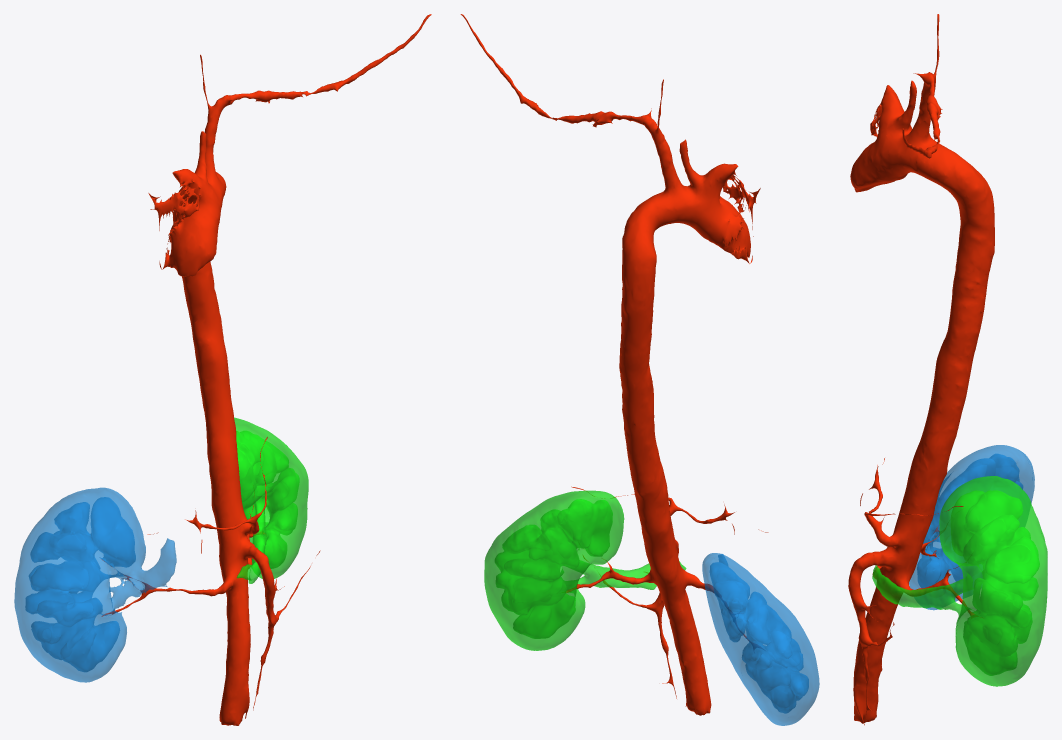
Rendered from segmentation_of_kidneys_and_aorta-v1.glb.
3 views of the same model, side by side, from view 1: azimuth 30°, elevation 25°; view 2: azimuth 150°, elevation 25°; view 3: azimuth 270°, elevation 25° (orthographic). The views are drawn at different scales.
Visible parts, largest first — view 1: Object_4, Object_3, Object_2; view 2: Object_4, Object_2, Object_3; view 3: Object_4, Object_2, Object_3.
Boxes of the visible parts, left/top/right/bottom form: Object_4: left=101, top=14, right=431, bottom=725; Object_3: left=14, top=487, right=176, bottom=682; Object_2: left=234, top=417, right=308, bottom=583; Object_4: left=460, top=14, right=768, bottom=715; Object_2: left=484, top=490, right=686, bottom=650; Object_3: left=702, top=553, right=819, bottom=725; Object_4: left=848, top=14, right=994, bottom=725; Object_2: left=872, top=476, right=1047, bottom=686; Object_3: left=909, top=445, right=1034, bottom=610.
Bounding box in the file's own units: 245 × 400 × 102.
